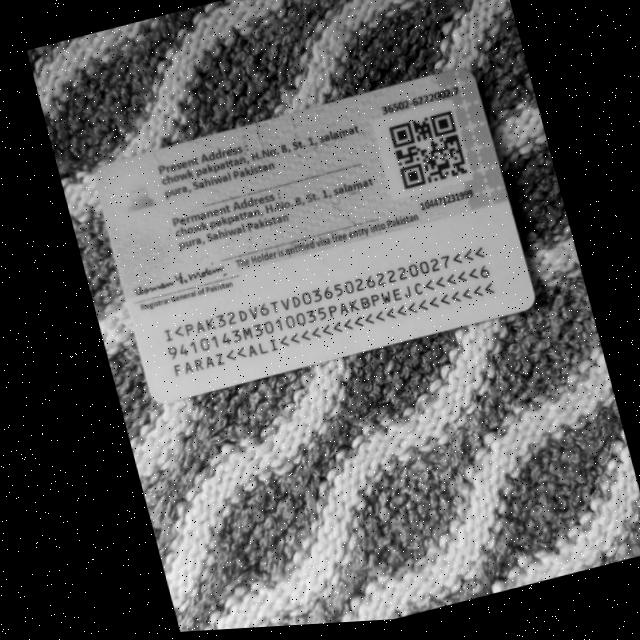card: (97, 70, 534, 402)
